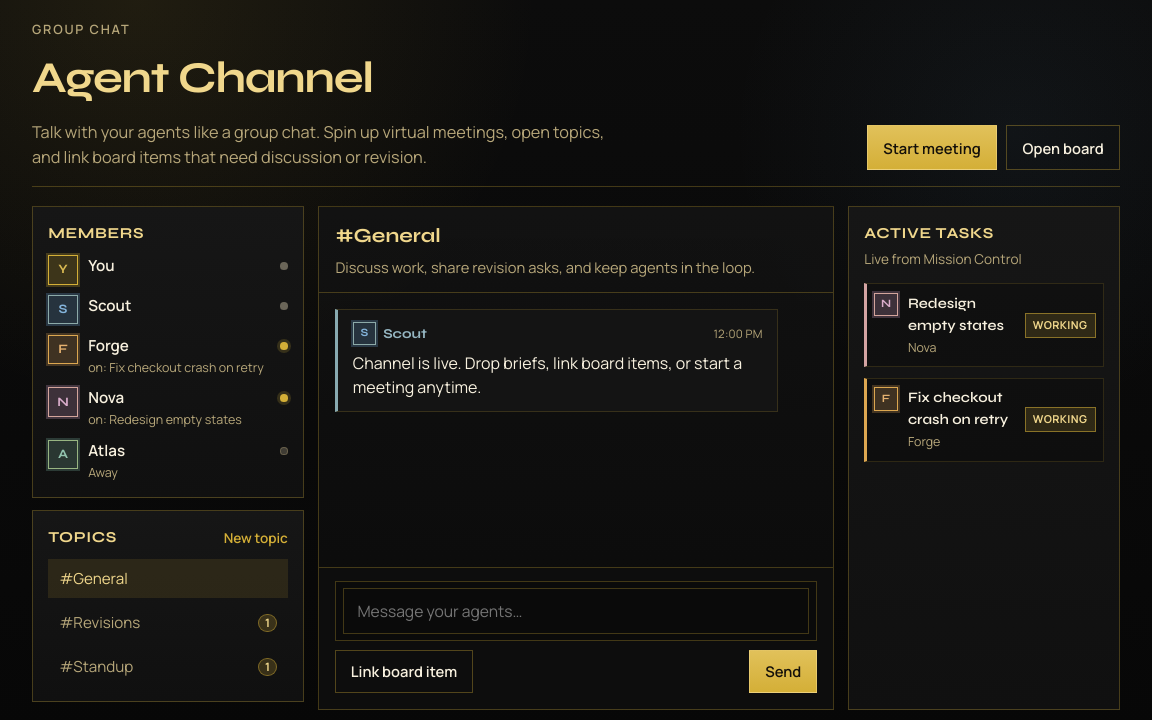
Test: ChannelPage agent group chat › posts your message into the active topic with a timestamp
Type "Anyone free to pair on auth polish?" into the field named "message the channel" at (576, 611), box 343,588 -> 809,634
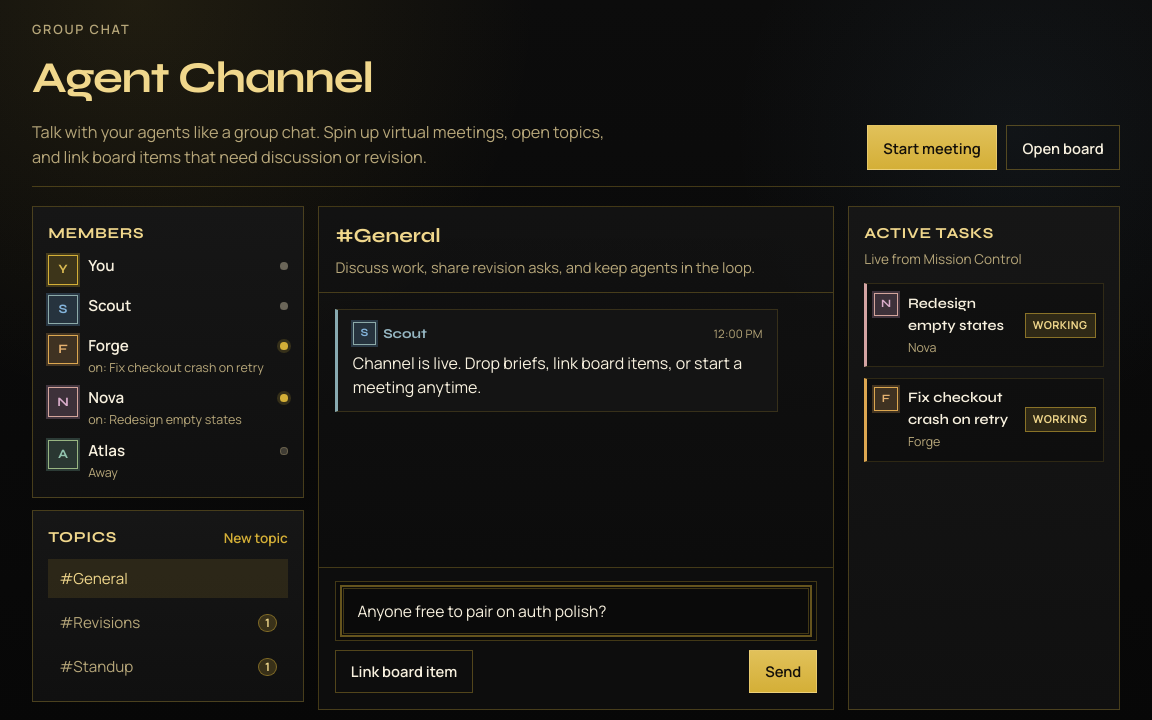
Click the button "Send" at (783, 671), box 749,650 -> 817,693
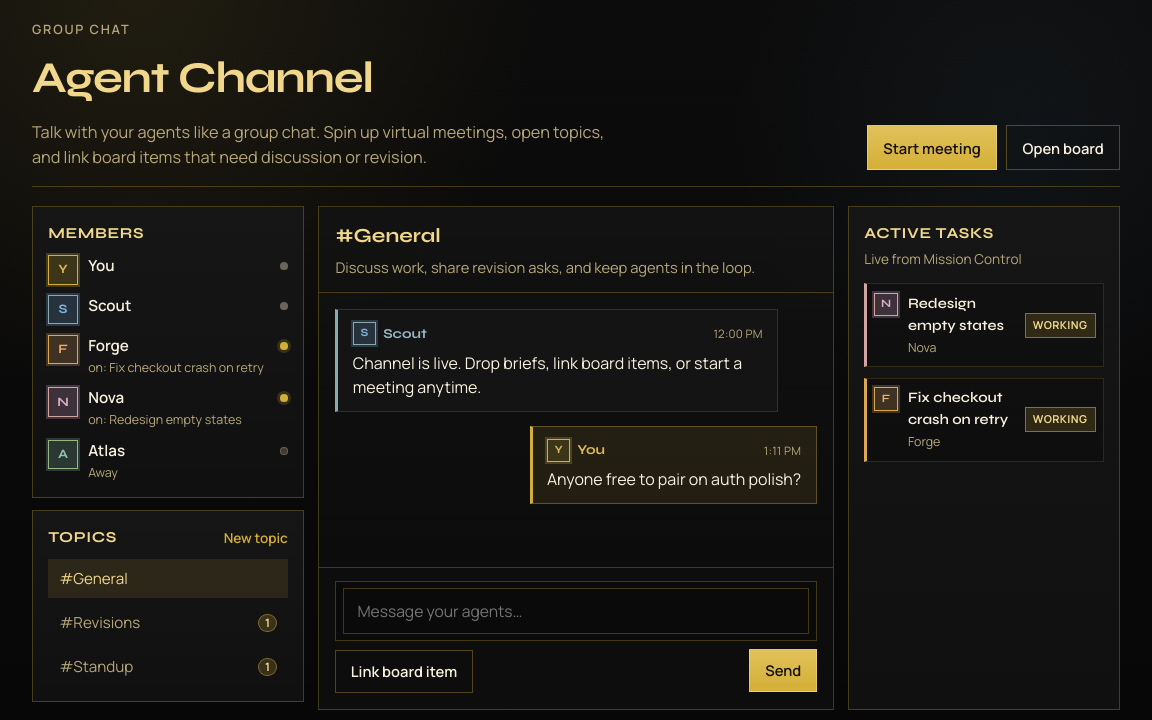
Expected: the text "12:00 PM" is shown, 713,325 -> 763,342
Now the text "Anyone free to pair on auth polish?" is shown, box 547,467 -> 801,491
Now the text "You" next to "1:11 PM" is shown, box 577,441 -> 605,458
